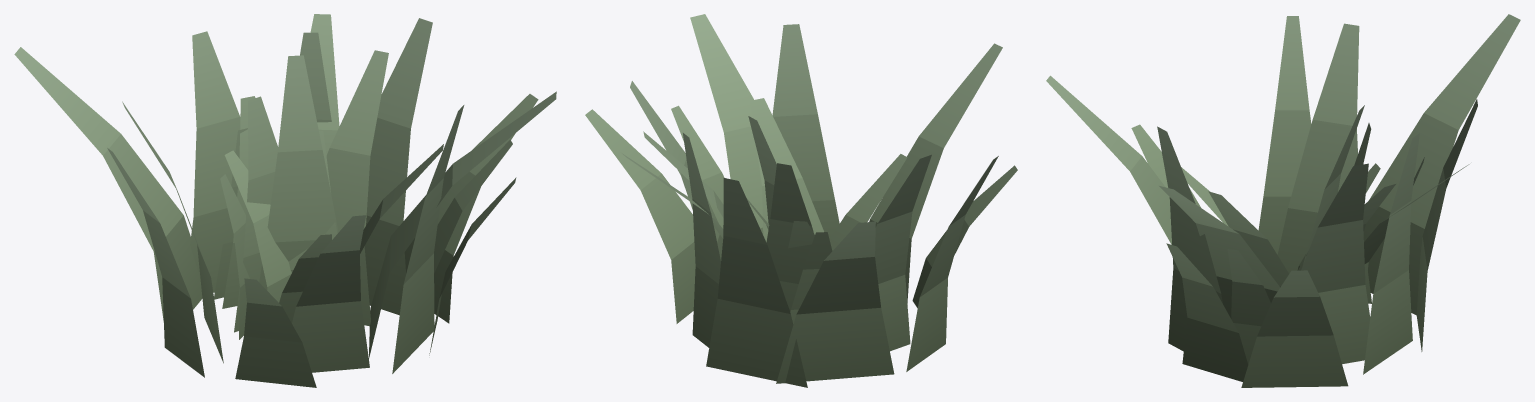
File: groundcover_a.glb
3 views of the same model, side by side, from view 1: azimuth 30°, elevation 25°; view 2: azimuth 150°, elevation 25°; view 3: azimuth 270°, elevation 25° (orthographic). The views are drawn at different scales.
Parts seen in each view (by area): view 1: groundcover_a; view 2: groundcover_a; view 3: groundcover_a.
Part boxes in pixels (left/top/right/bottom): groundcover_a: left=14, top=14, right=556, bottom=387; groundcover_a: left=585, top=14, right=1017, bottom=387; groundcover_a: left=1046, top=14, right=1520, bottom=387.
Size of the model in its own units: 0.5957 by 0.3365 by 0.5901.
